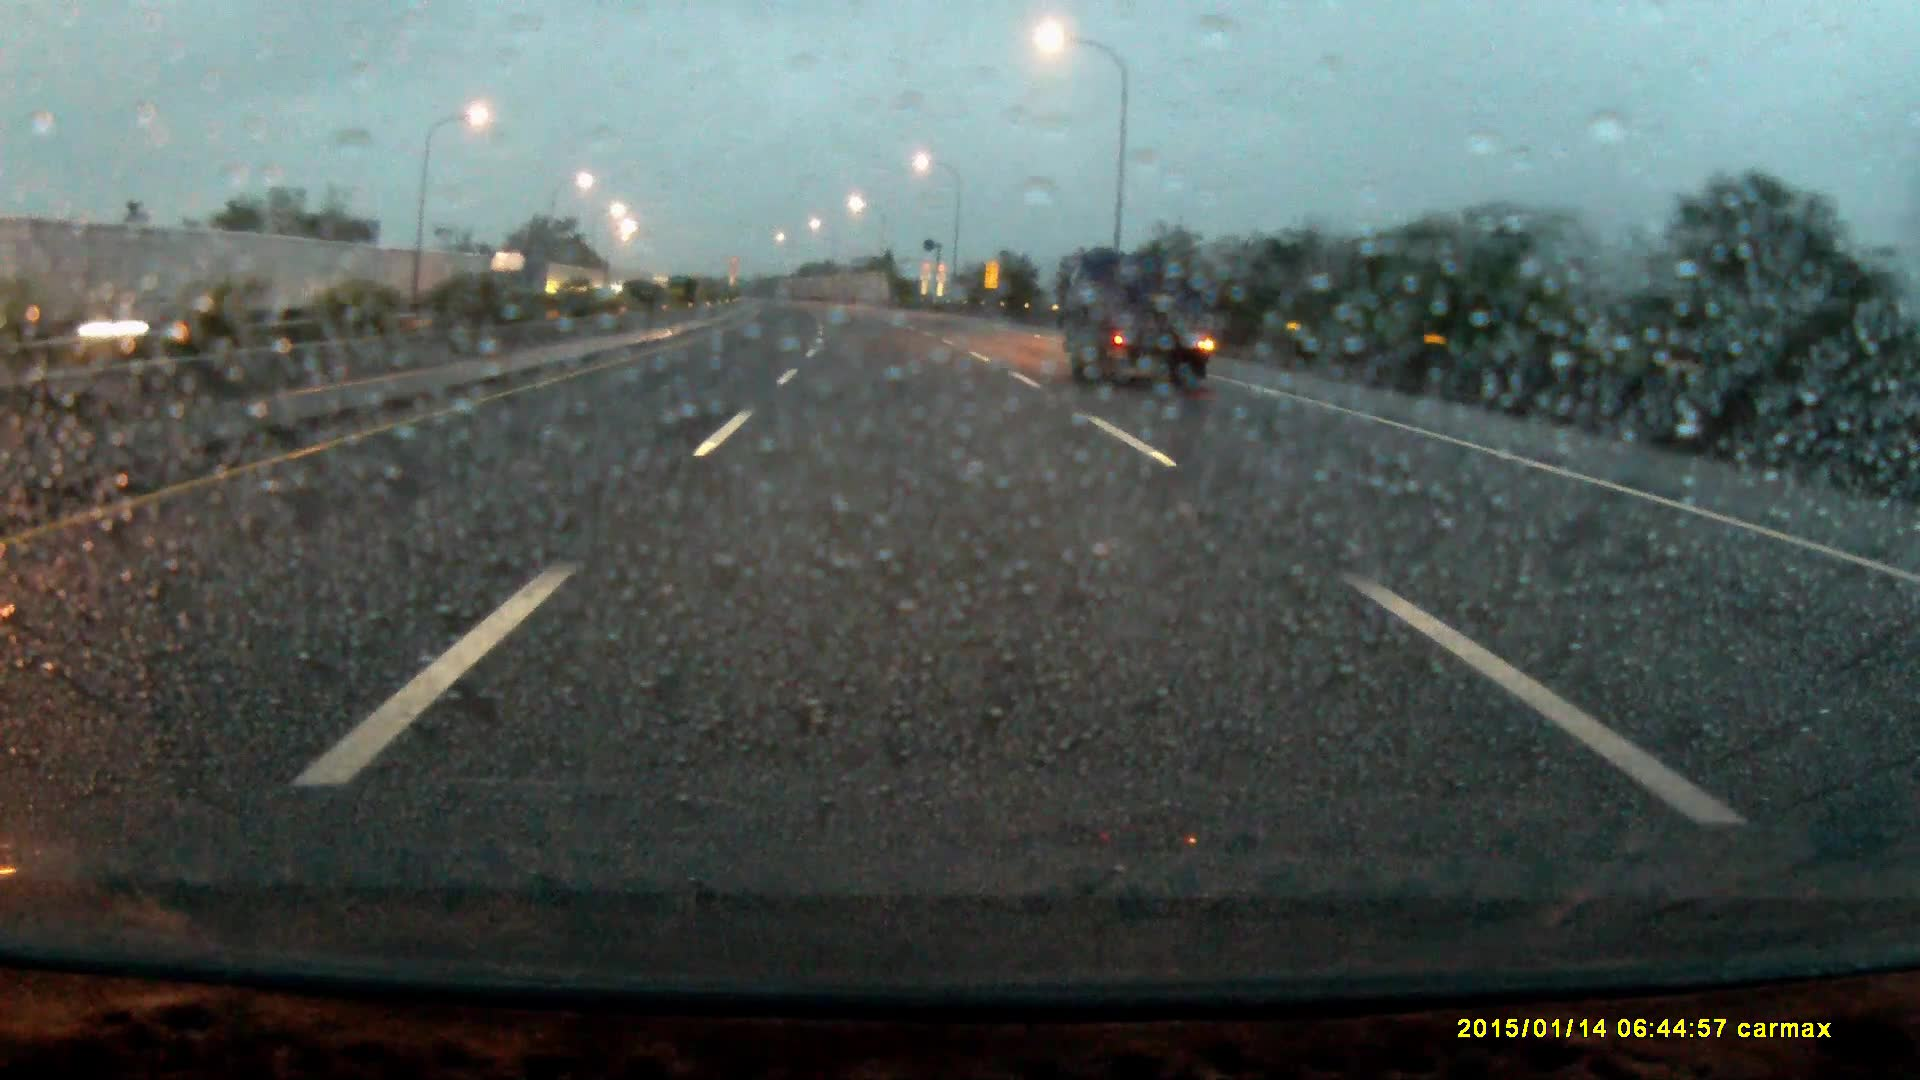vehicle: (1062, 252, 1211, 400), (485, 252, 551, 326)
